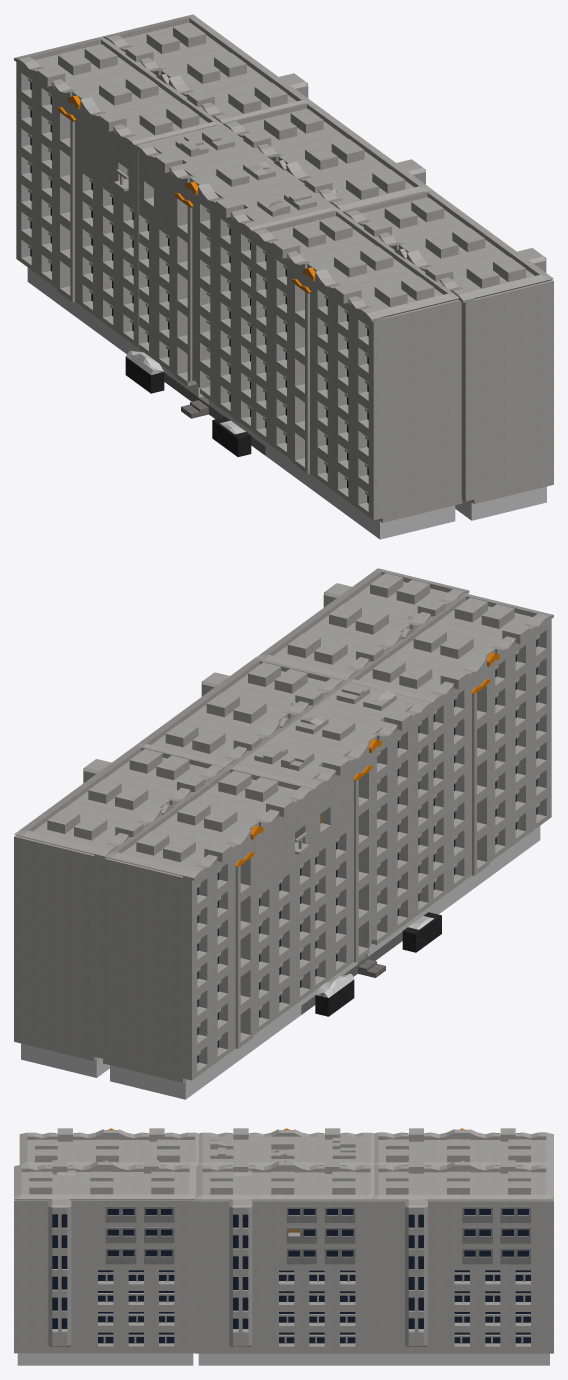
Rendered from mnogoetazkafbx.fbx.
3 renders of one model, top to bottom at view 1: azimuth 30°, elevation 25°; view 2: azimuth 150°, elevation 25°; view 3: azimuth 270°, elevation 25°, orthographic. The views are drawn at different scales.
Parts seen in each view (by area): view 1: дом; view 2: дом; view 3: дом.
Part boxes in pixels (bbox=[...]): дом: bbox=[14, 14, 553, 539]; дом: bbox=[14, 568, 553, 1099]; дом: bbox=[14, 1128, 553, 1365].
Bounding box in the file's own units: 2349 × 2525 × 7070.
